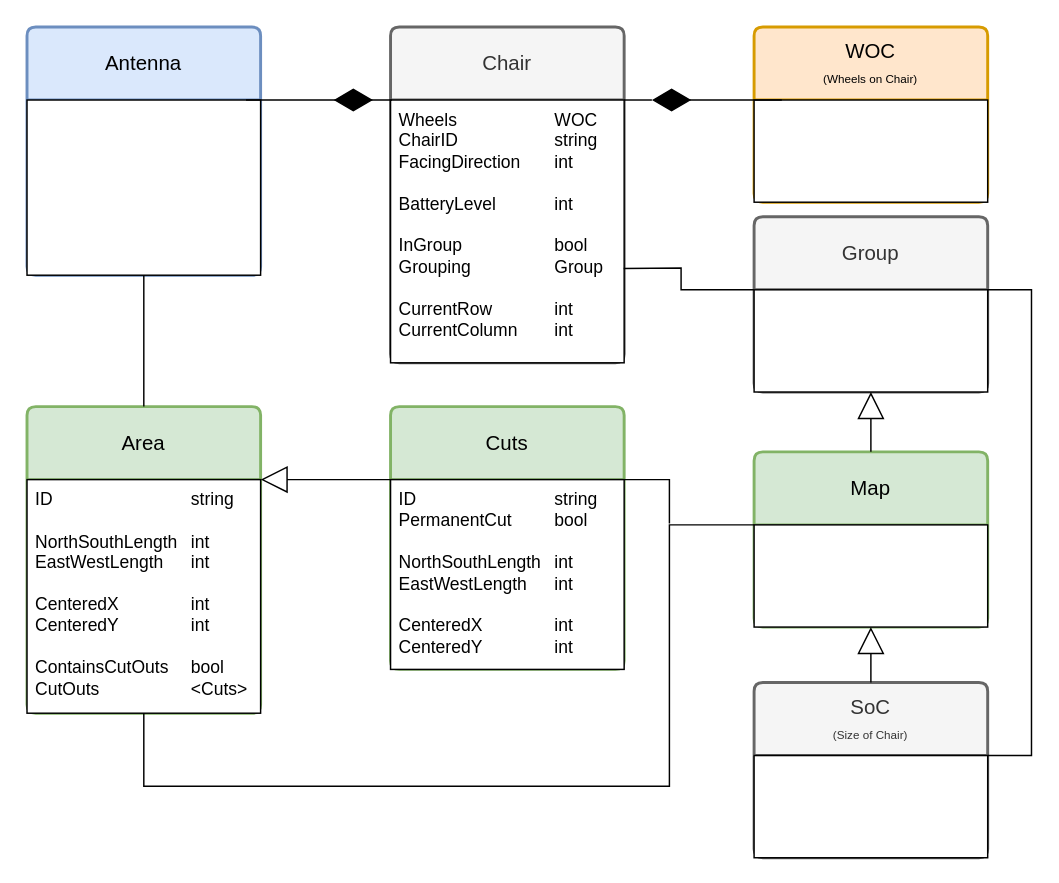
Some shapes in this 1059 by 883 pixel diagram are drawn without their labels. The centre of each missing label's shape, as x and y in pixels:
FrontLeft string FrontRight string BackLeft string BackRight string: the point at 870,150
ID int Fixed bool UserInterface bool Location Map PowerMode int: the point at 143,187
LRWidth int FBLength int TBHeight int SafeBuffer int: the point at 870,806
NoC int Neighbors <string> CenteredAt Map Configuration int: the point at 870,340
X-Location int Y-Location int Surrounding SoC Tilt int: the point at 870,575
